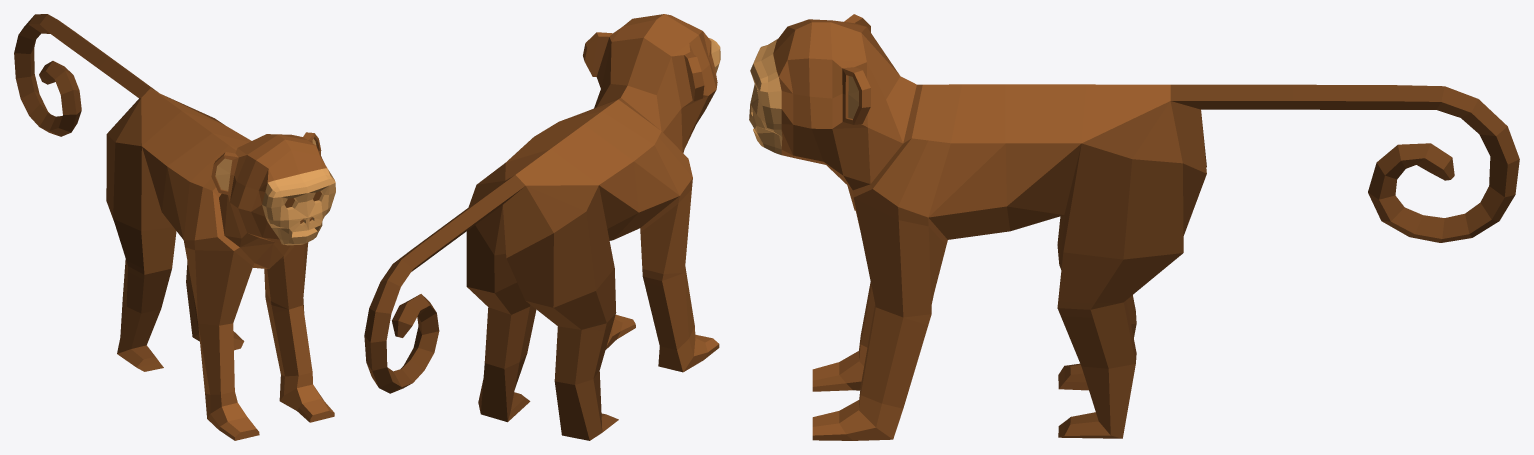
Rendered from delh_anim_01.fbx.
3 renders of one model, left to right at view 1: azimuth 30°, elevation 25°; view 2: azimuth 150°, elevation 25°; view 3: azimuth 270°, elevation 25°, orthographic. The views are drawn at different scales.
Visible parts, largest first — view 1: delh_anim_01; view 2: delh_anim_01; view 3: delh_anim_01.
Part boxes in pixels (x1,y1,x2,y2): delh_anim_01: [14, 14, 335, 440]; delh_anim_01: [364, 14, 720, 440]; delh_anim_01: [749, 14, 1519, 440].
Bounding box in the file's own units: 15.17 × 36.14 × 65.3.
